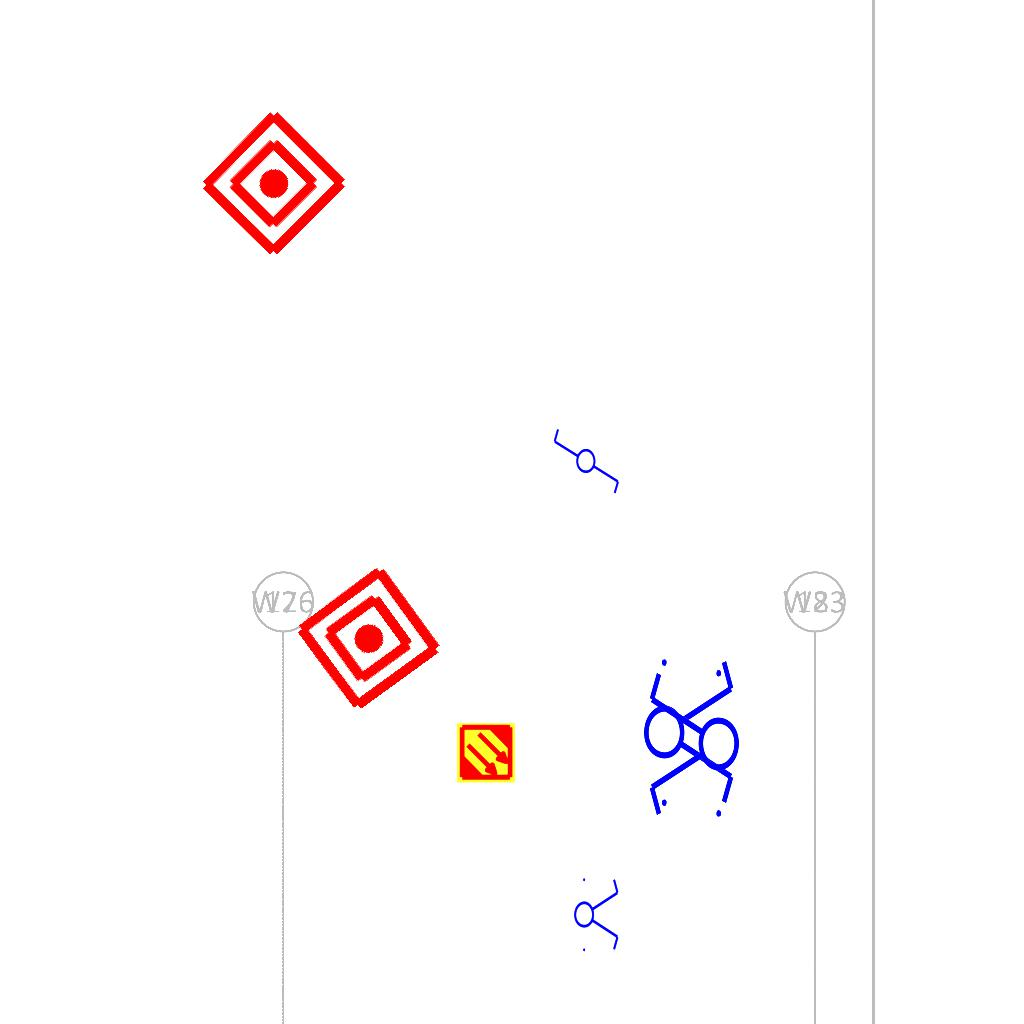ASR_Ansaugrauchmelder: (455, 722, 517, 784)
NAM-Nichtautomatischer_Melder: (193, 103, 354, 264), (289, 559, 448, 718)
Serienschalter: (642, 647, 738, 815), (645, 661, 741, 829), (573, 872, 621, 956)
Wechselschalter: (551, 418, 623, 496)
